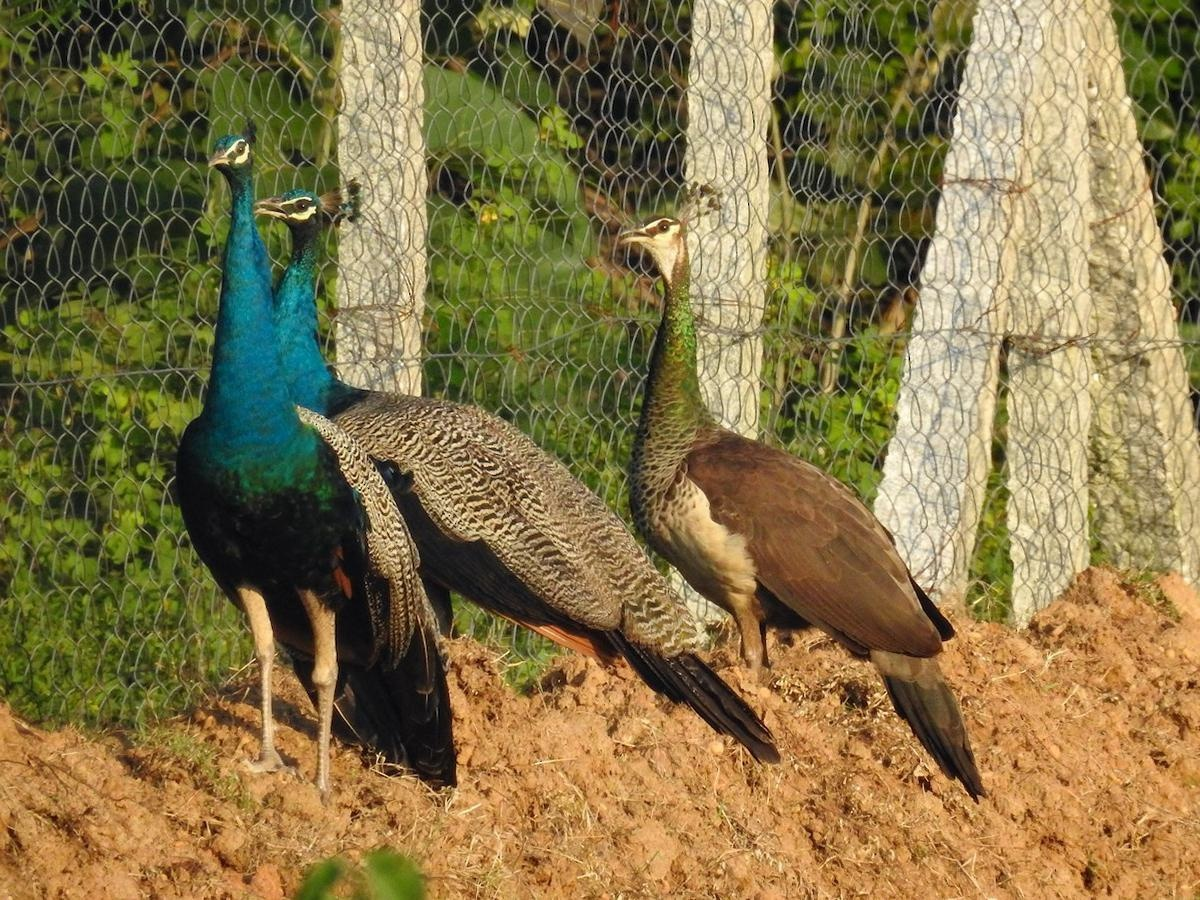peacock: (620, 188, 963, 743), (137, 127, 445, 724)
